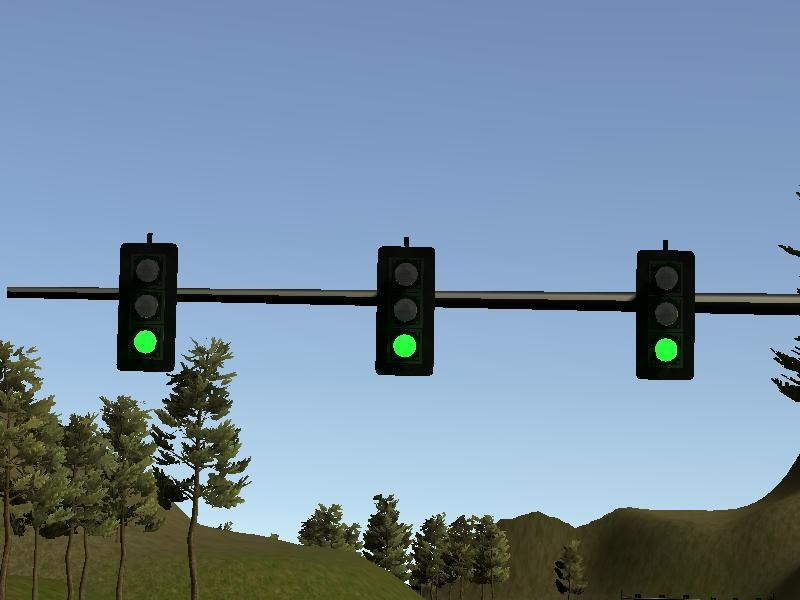green: (118, 241, 179, 376), (636, 249, 694, 382), (376, 247, 434, 377)
